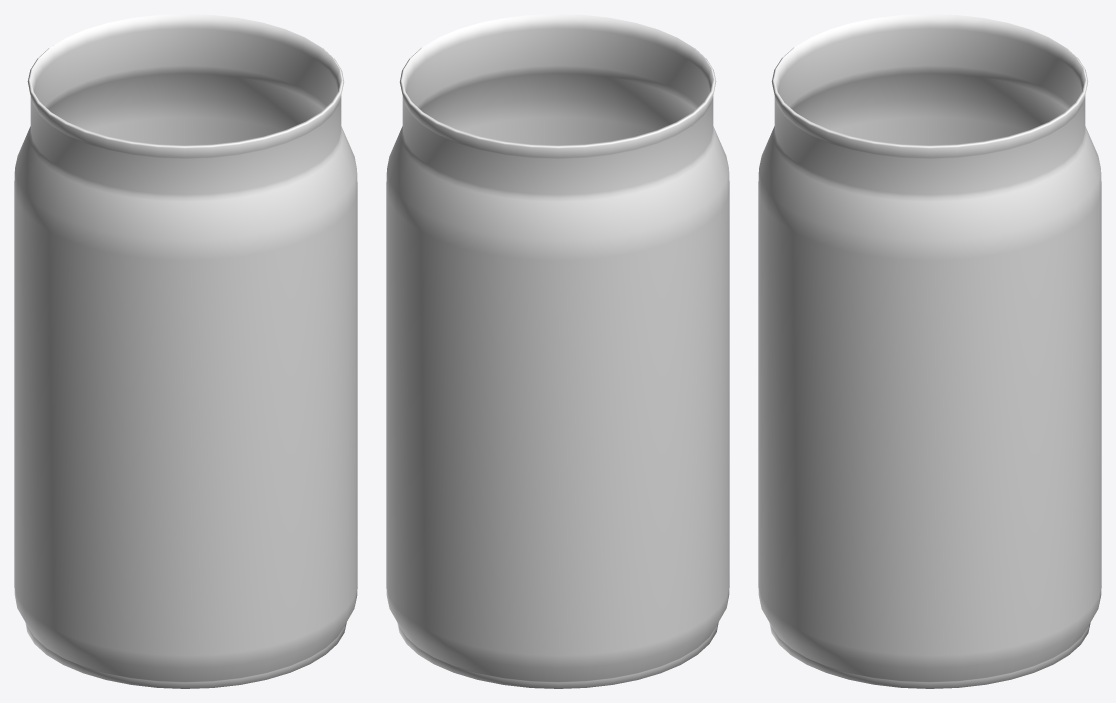
File: glass.glb
The picture shows the model from 3 angles, left to right: view 1: azimuth 30°, elevation 25°; view 2: azimuth 150°, elevation 25°; view 3: azimuth 270°, elevation 25°; orthographic projection.
Parts seen in each view (by area): view 1: glass_0; view 2: glass_0; view 3: glass_0.
Part boxes in pixels (left/top/right/bottom): glass_0: left=14, top=14, right=357, bottom=688; glass_0: left=386, top=14, right=729, bottom=688; glass_0: left=758, top=14, right=1101, bottom=688.
Size of the model in its own units: 20.15 by 35.04 by 20.15.
Materials: 1 (1 with a texture image).
